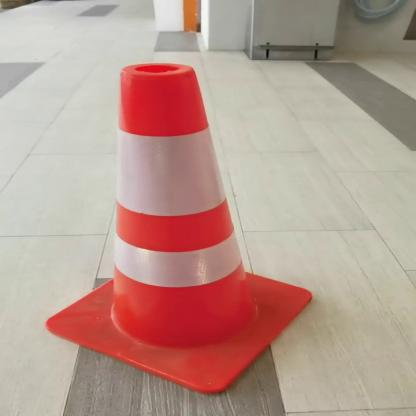cone: (34, 57, 332, 396)
